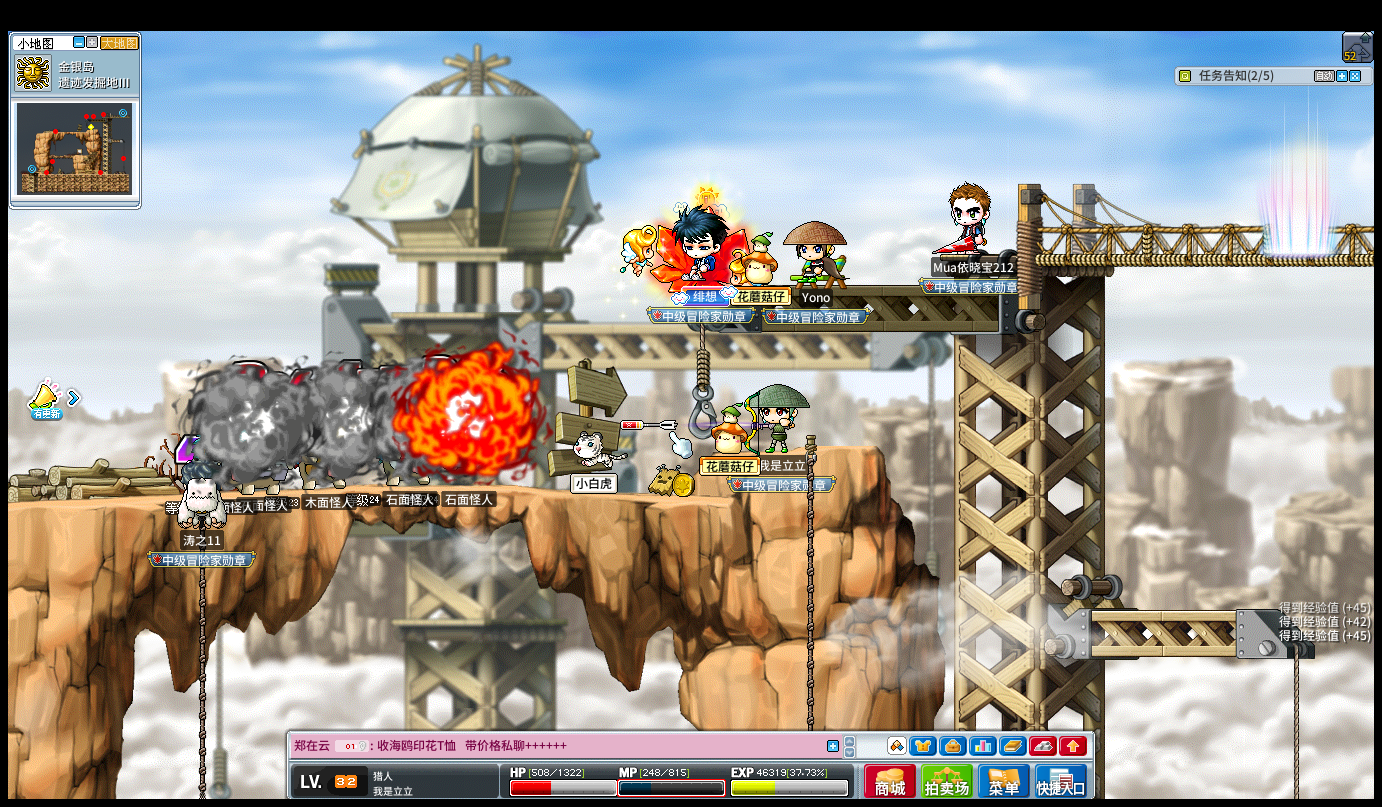floor: (0, 481, 777, 497), (65, 484, 756, 500)
rope: (802, 450, 817, 720), (194, 503, 207, 796), (1289, 652, 1303, 793)
